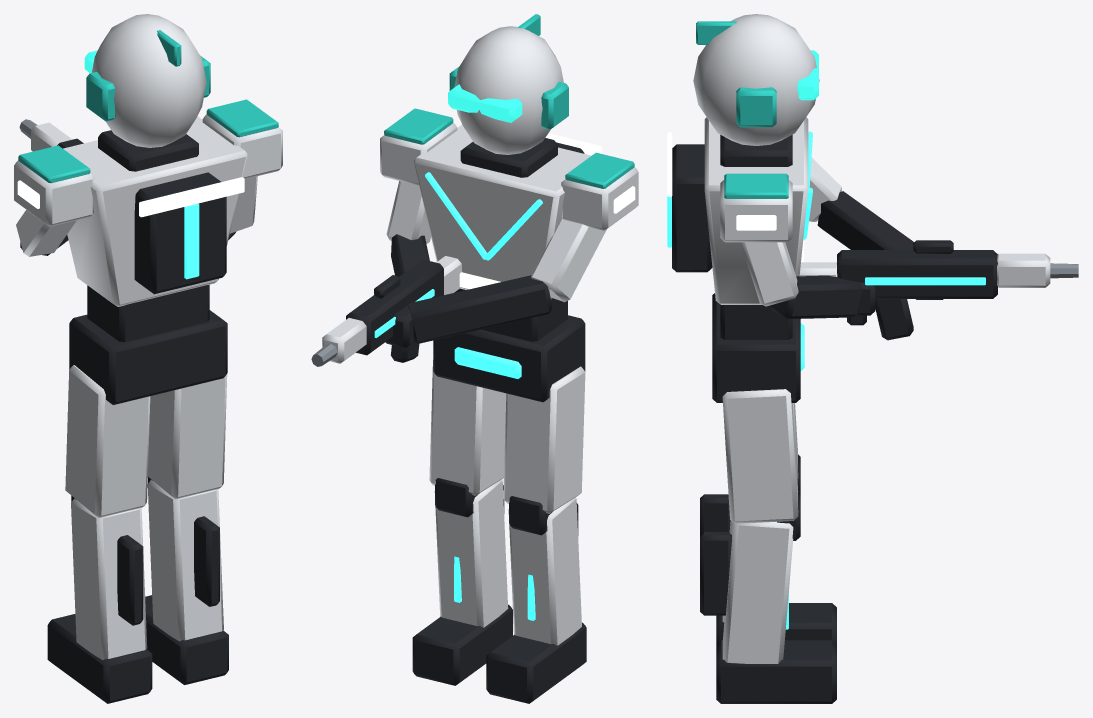
The model's file is hero_vex.glb.
3 views of the same model, side by side, from view 1: azimuth 30°, elevation 25°; view 2: azimuth 150°, elevation 25°; view 3: azimuth 270°, elevation 25° (orthographic). The views are drawn at different scales.
Visible parts, largest first — view 1: torso, legL, legR, head, hips, armL, armR, weapon; view 2: legL, legR, torso, armL, head, hips, weapon, armR; view 3: legR, torso, head, weapon, armR, hips, armL, legL.
Part boxes in pixels (x1=…): torso: x1=63, y1=116, x2=247, y2=342; legL: x1=47, y1=365, x2=152, y2=703; legR: x1=145, y1=374, x2=228, y2=684; head: x1=84, y1=14, x2=210, y2=147; hips: x1=69, y1=310, x2=227, y2=404; armL: x1=14, y1=145, x2=94, y2=256; armR: x1=202, y1=99, x2=282, y2=239; weapon: x1=19, y1=119, x2=83, y2=151; legL: x1=486, y1=366, x2=586, y2=703; legR: x1=412, y1=360, x2=512, y2=685; torso: x1=413, y1=124, x2=601, y2=341; armL: x1=385, y1=152, x2=638, y2=348; head: x1=448, y1=14, x2=568, y2=154; hips: x1=433, y1=315, x2=585, y2=402; weapon: x1=311, y1=256, x2=462, y2=366; armR: x1=380, y1=108, x2=457, y2=276; legR: x1=700, y1=389, x2=836, y2=703; torso: x1=667, y1=117, x2=812, y2=339; head: x1=693, y1=14, x2=819, y2=145; weapon: x1=799, y1=240, x2=1078, y2=340; armR: x1=720, y1=173, x2=875, y2=319; hips: x1=712, y1=293, x2=804, y2=402; armL: x1=809, y1=157, x2=943, y2=299; legL: x1=700, y1=403, x2=836, y2=644.
Bounding box in the file's own units: 0.696 × 1.8 × 1.02.
